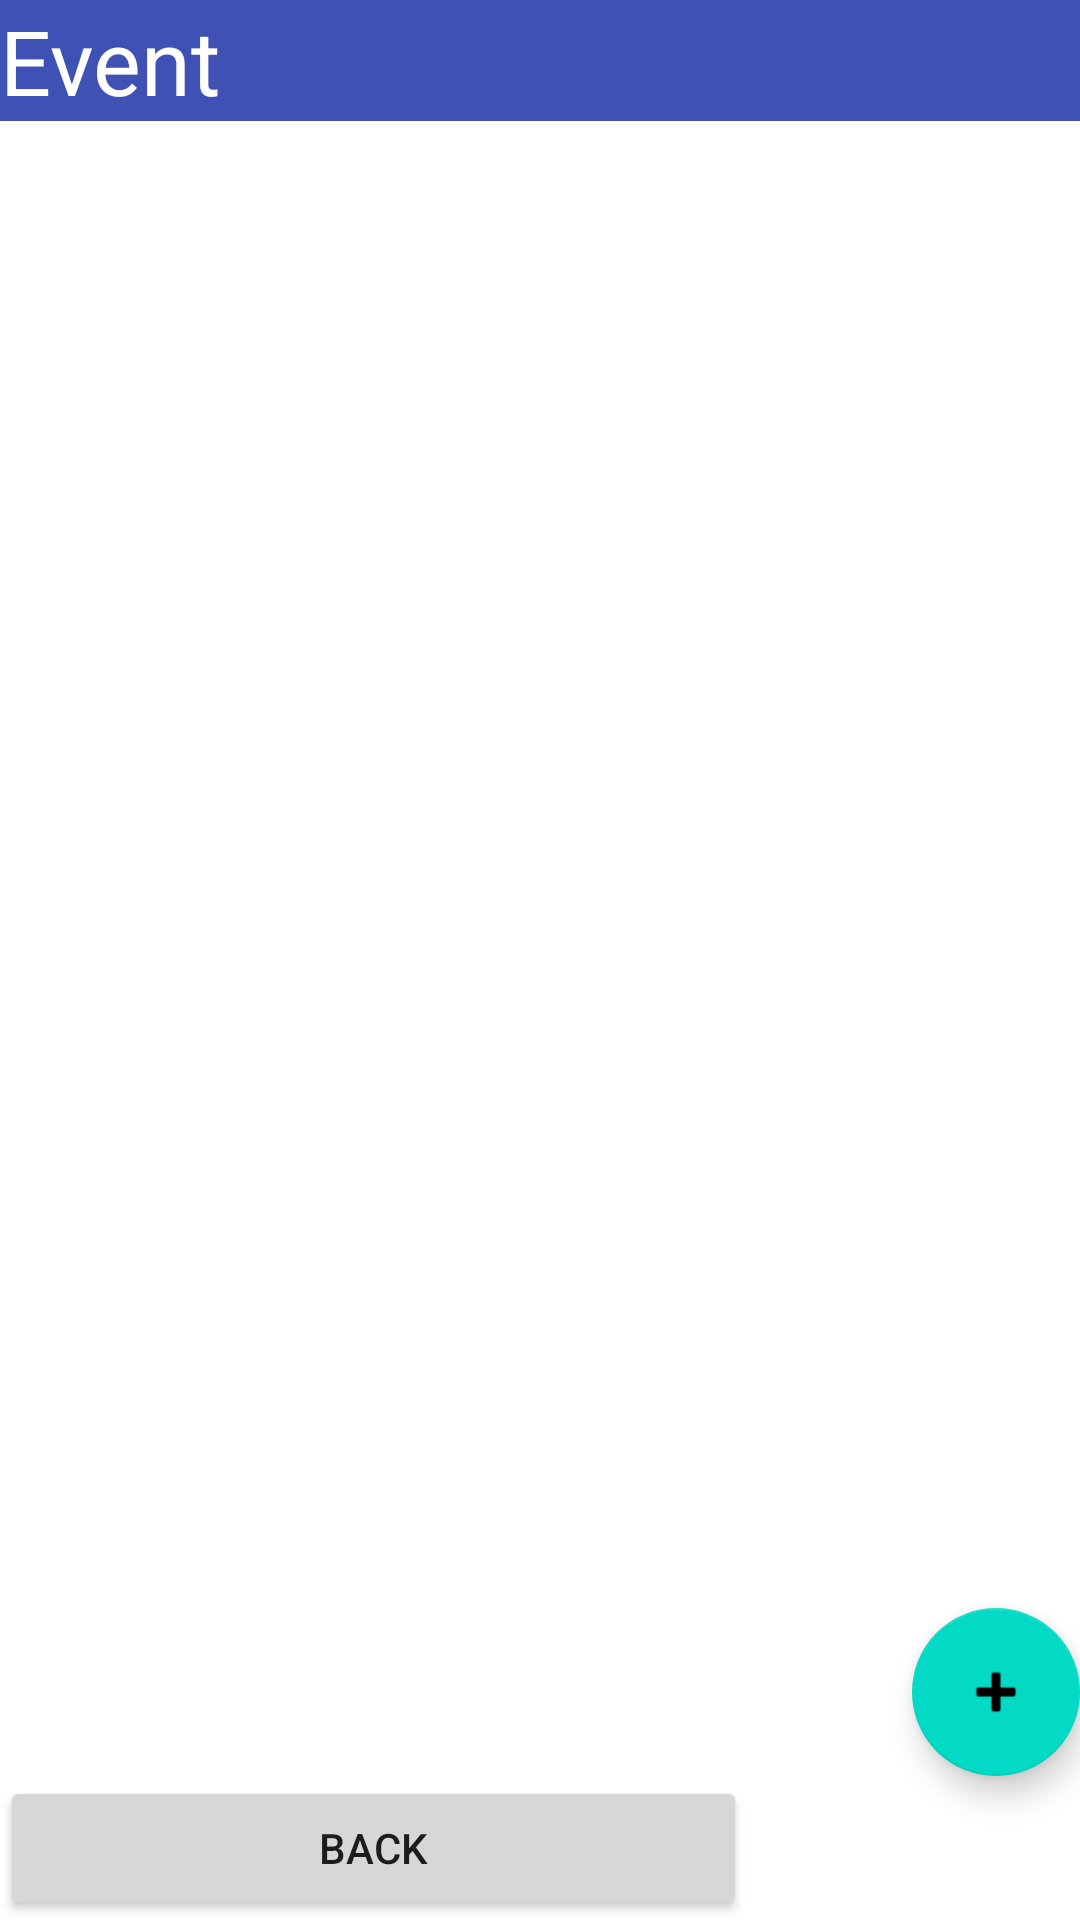

Screen size 1080×1920. Icon name, then its box in pixels as [left=x1, top=y1, right=x2, bottom=y2]:
add: [left=912, top=1608, right=1080, bottom=1776]
